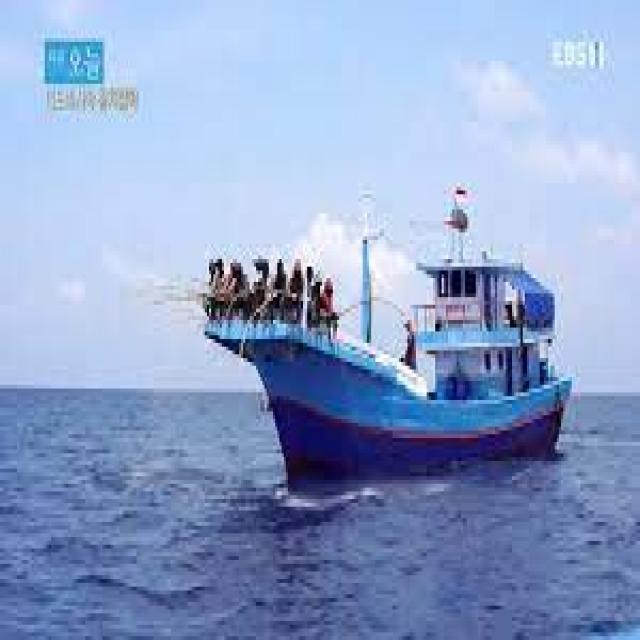Ship: (187, 165, 588, 500)
